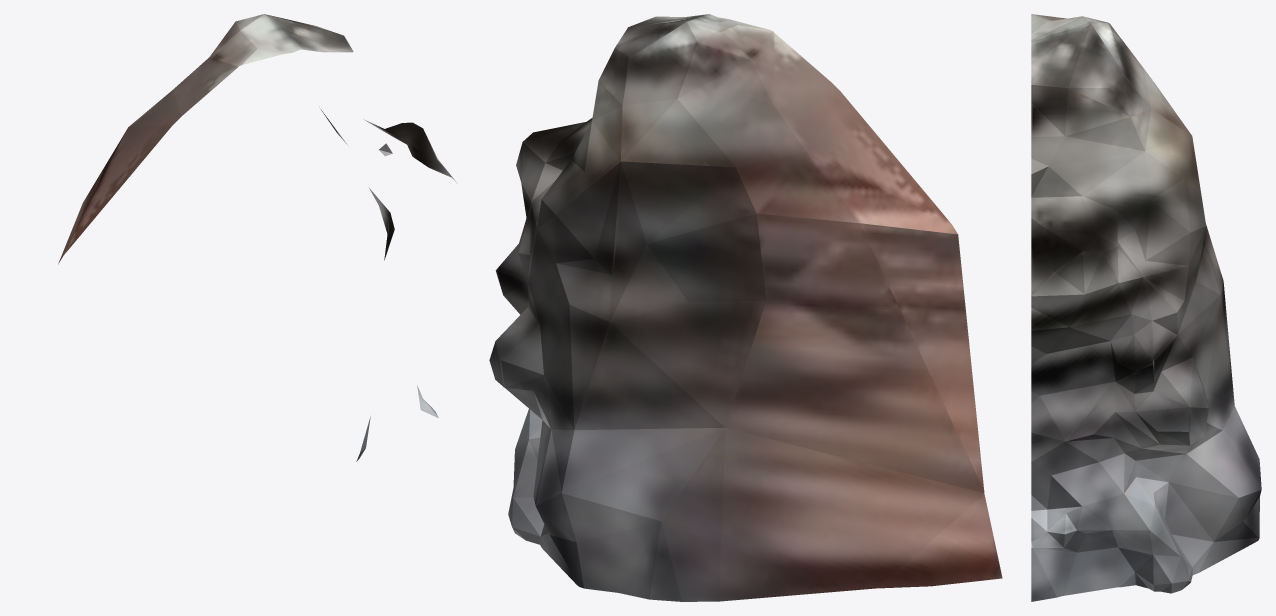
The picture shows the model from 3 angles, left to right: view 1: azimuth 30°, elevation 25°; view 2: azimuth 150°, elevation 25°; view 3: azimuth 270°, elevation 25°; orthographic projection. The views are drawn at different scales.
Size of the model in its own units: 0.6429 by 0.6804 by 0.2809.
1 material, 1 textured.
